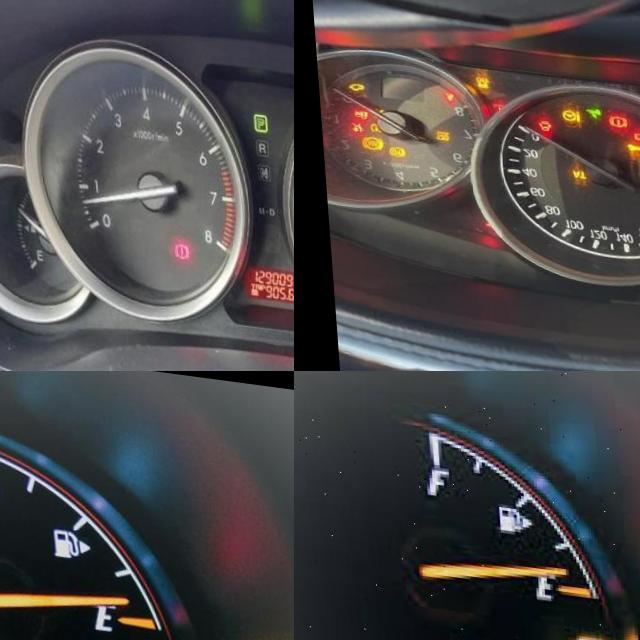Electronic Power Steering: (557, 102, 575, 116)
Seat Belt: (440, 88, 450, 99)
